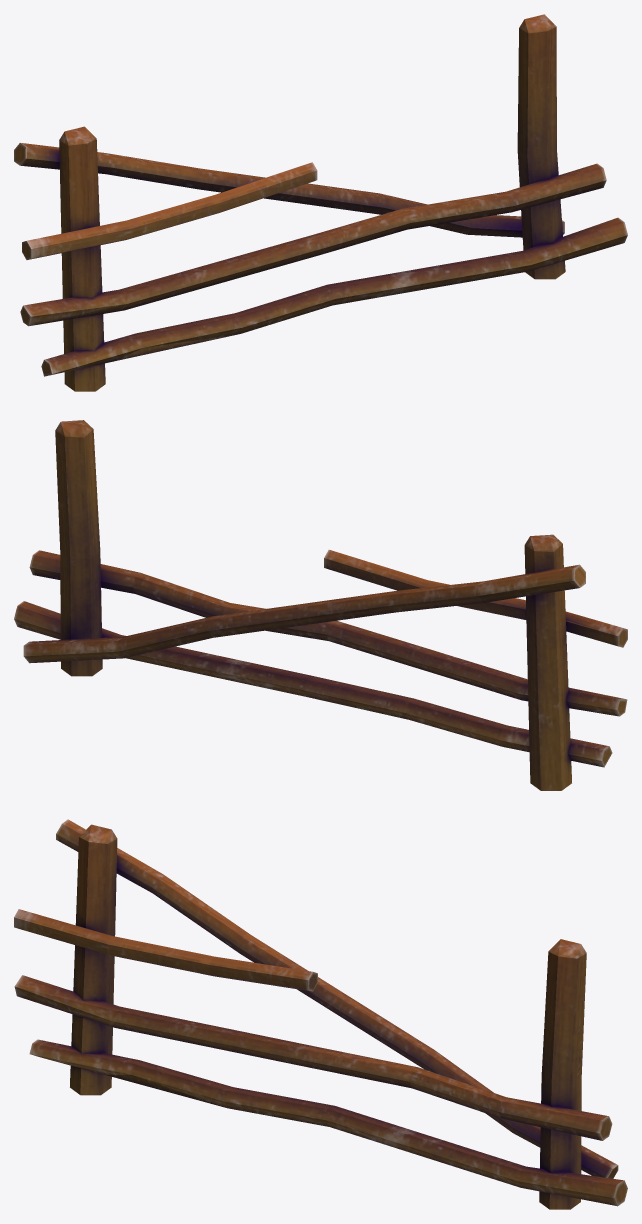
Rendered from Fence3.fbx.
The picture shows the model from 3 angles, top to bottom: view 1: azimuth 30°, elevation 25°; view 2: azimuth 150°, elevation 25°; view 3: azimuth 330°, elevation 25°; orthographic projection. The views are drawn at different scales.
Visible parts, largest first — view 1: EA03_Fence_Beam_01d_LOD0; view 2: EA03_Fence_Beam_01d_LOD0; view 3: EA03_Fence_Beam_01d_LOD0.
Boxes of the visible parts, bbox=[...] form: EA03_Fence_Beam_01d_LOD0: bbox=[14, 14, 627, 391]; EA03_Fence_Beam_01d_LOD0: bbox=[14, 420, 627, 790]; EA03_Fence_Beam_01d_LOD0: bbox=[14, 819, 627, 1209].
Size of the model in its own units: 4.23 by 0.5303 by 1.69.
Materials: 1 (1 with a texture image).
